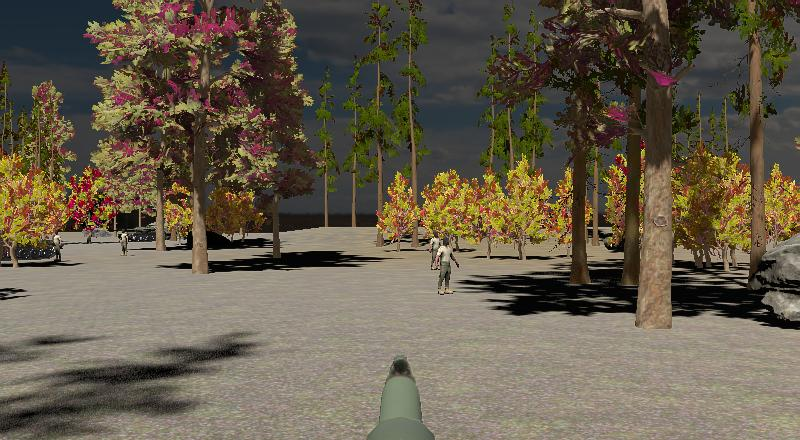Human: (434, 237, 460, 296)
Tank: (122, 221, 172, 244)
